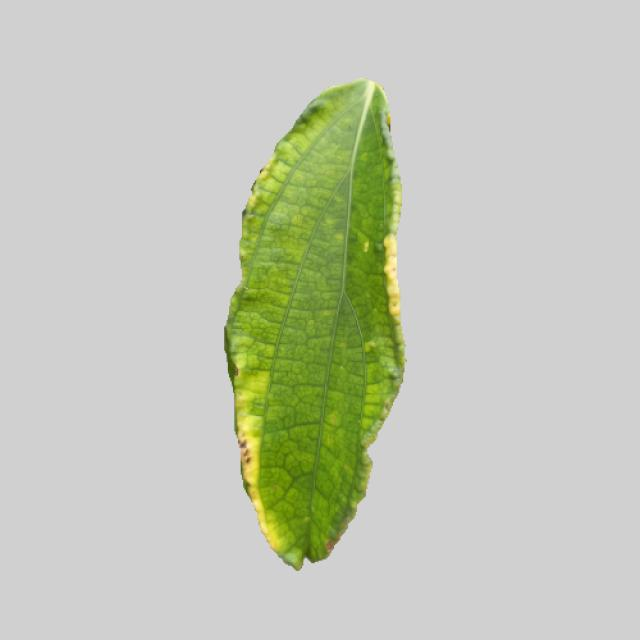yellow-mottle-virus: (226, 82, 410, 568)
